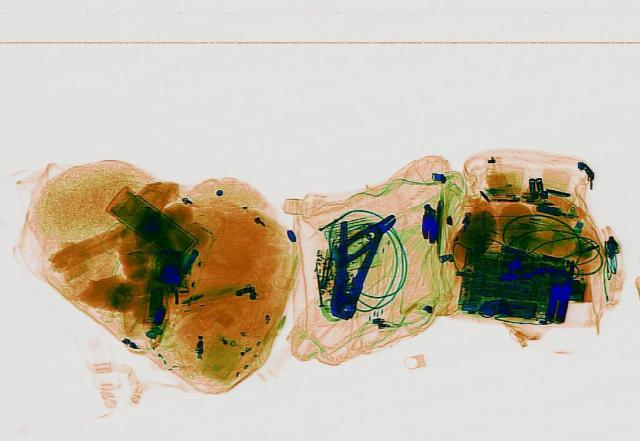Pliers: (318, 219, 384, 318), (326, 209, 404, 260)
